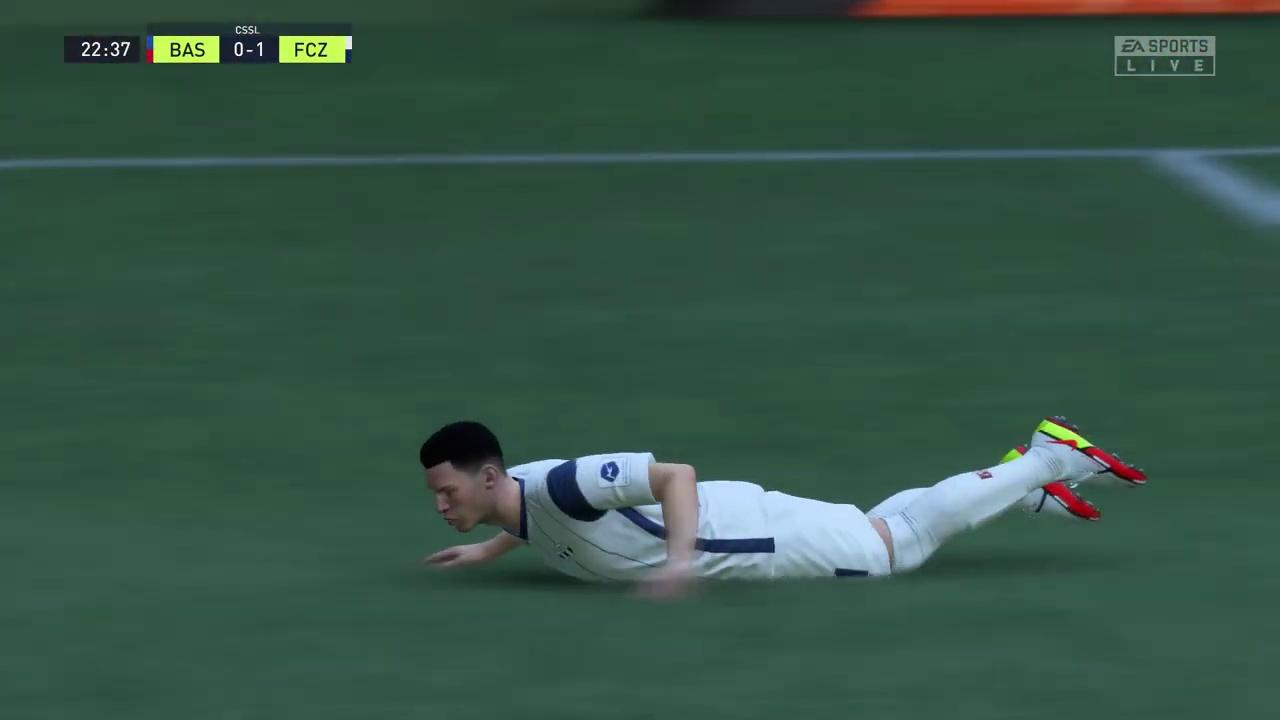scoreboard: (154, 35, 353, 62)
timestamp: (67, 33, 141, 62)
